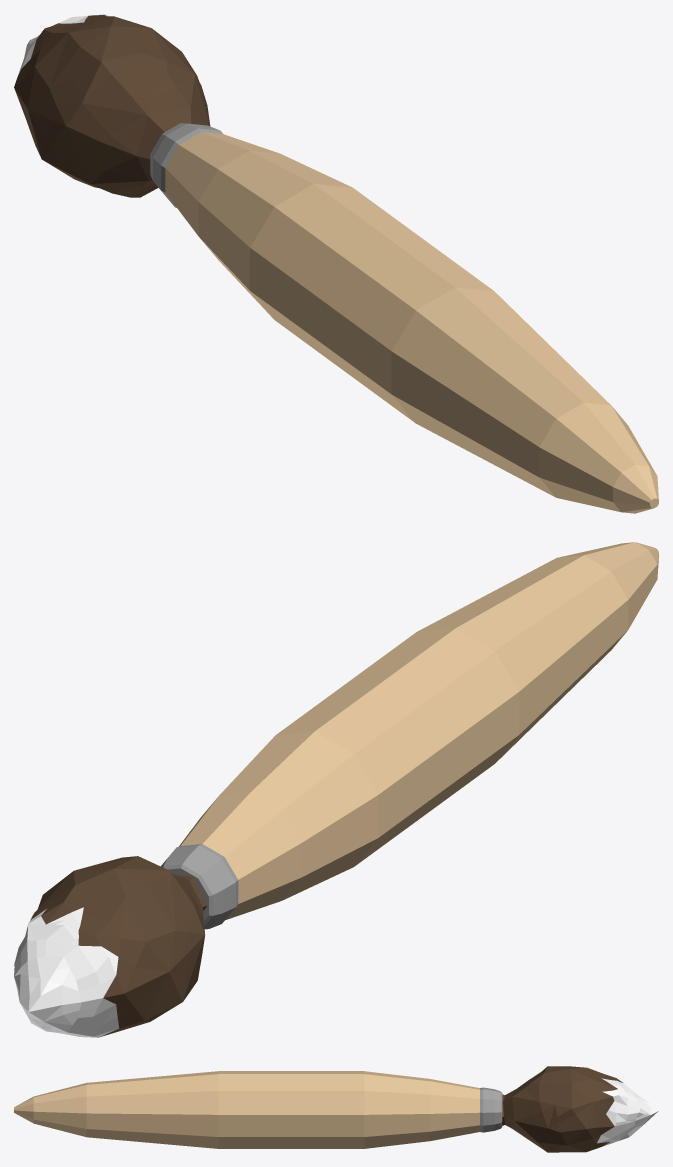
Rendered from LowPoly_Brush.fbx.
3 renders of one model, top to bottom at view 1: azimuth 30°, elevation 25°; view 2: azimuth 150°, elevation 25°; view 3: azimuth 270°, elevation 25°, orthographic. The views are drawn at different scales.
Visible parts, largest first — view 1: Brush; view 2: Brush; view 3: Brush.
Part boxes in pixels (x1=…): Brush: x1=14, y1=14, x2=658, y2=513; Brush: x1=14, y1=542, x2=658, y2=1037; Brush: x1=14, y1=1066, x2=658, y2=1152.
Bounding box in the file's own units: 65.38 × 67.43 × 488.
